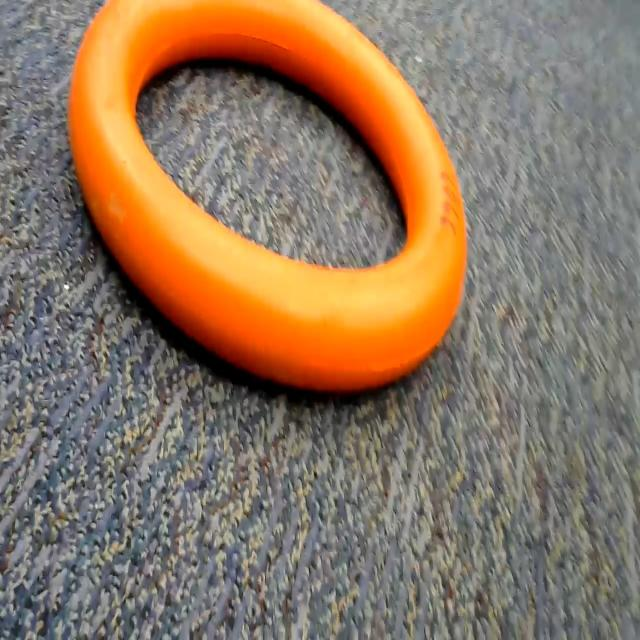note: (59, 0, 471, 400)
